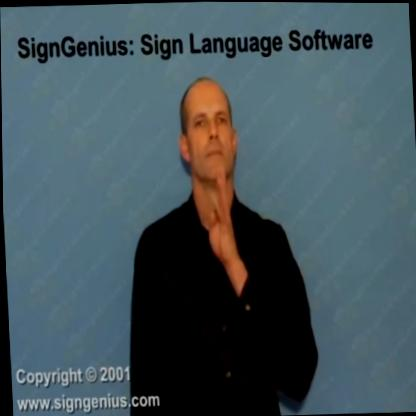Talk: (114, 71, 319, 416)
